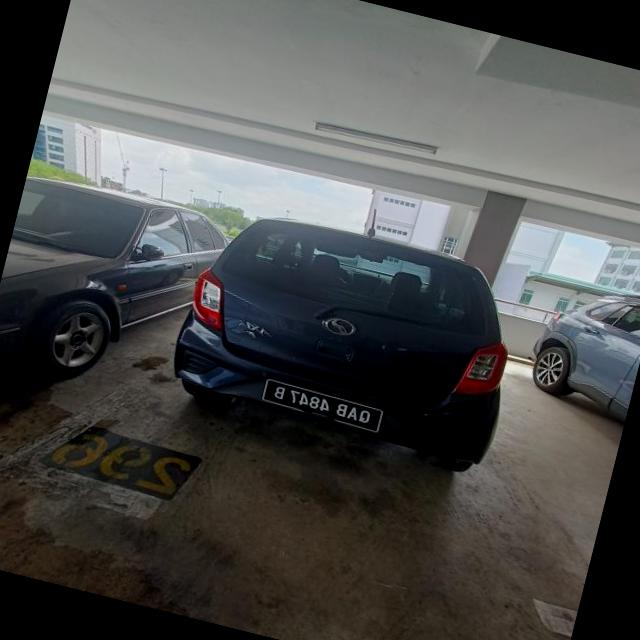PeroduaAxia: (160, 192, 536, 480)
